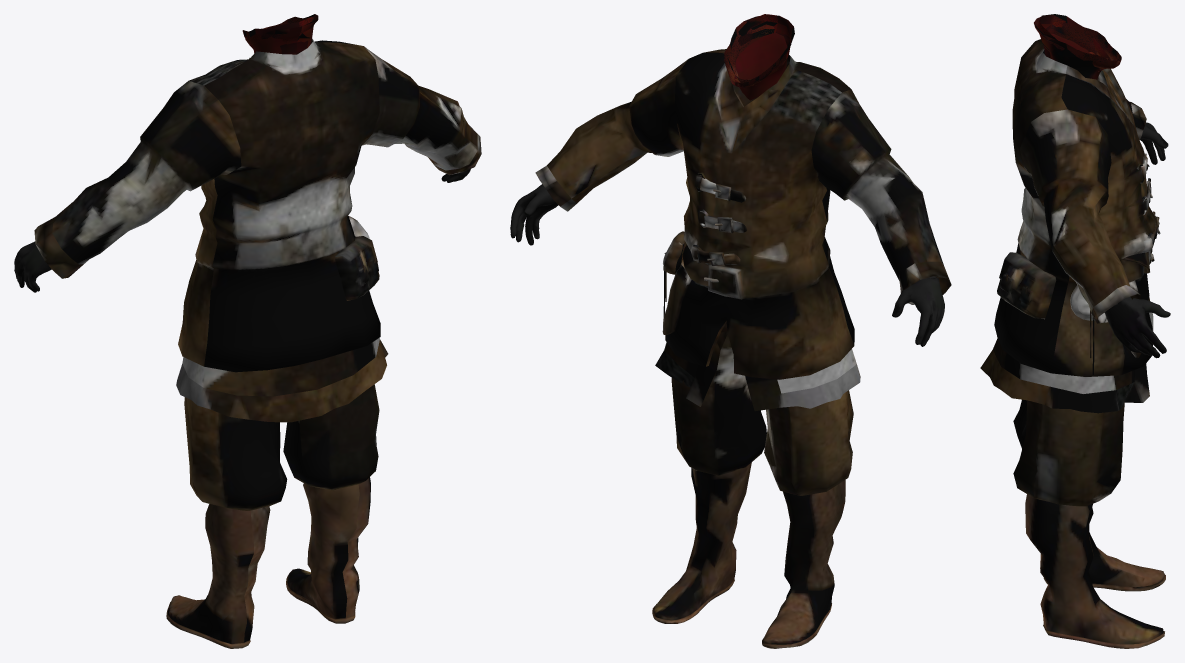
3 renders of one model, left to right at view 1: azimuth 30°, elevation 25°; view 2: azimuth 150°, elevation 25°; view 3: azimuth 270°, elevation 25°, orthographic. The views are drawn at different scales.
Parts seen in each view (by area): view 1: mesh_0; view 2: mesh_0; view 3: mesh_0.
Part boxes in pixels (x1,y1,x2,y2): mesh_0: [14, 14, 481, 648]; mesh_0: [510, 14, 951, 648]; mesh_0: [980, 14, 1170, 648].
Bounding box in the file's own units: 49.96 × 66.03 × 19.2.
Materials: 1 (1 with a texture image).
